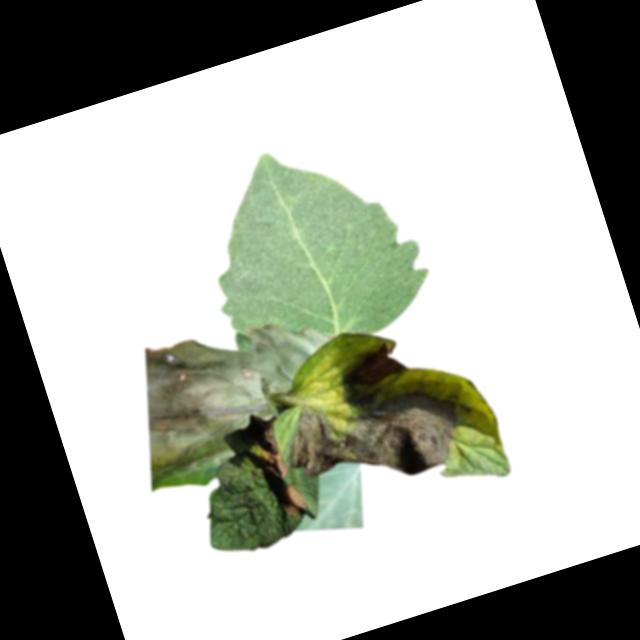Late_blight: (109, 296, 359, 485), (278, 372, 469, 510), (339, 338, 410, 395), (273, 483, 309, 521), (260, 442, 289, 482)
